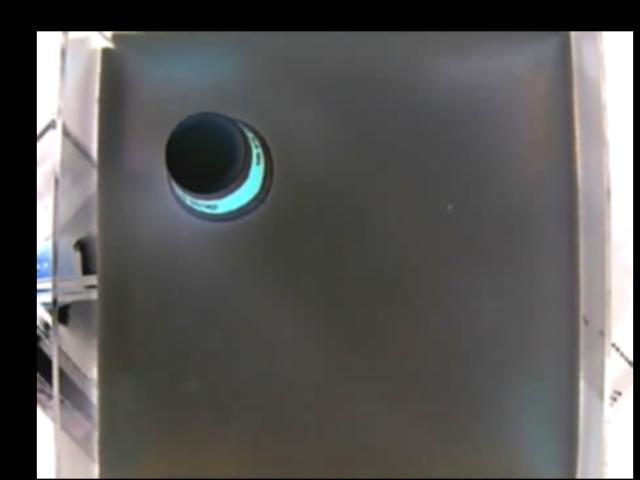Cup: (161, 109, 275, 227)
